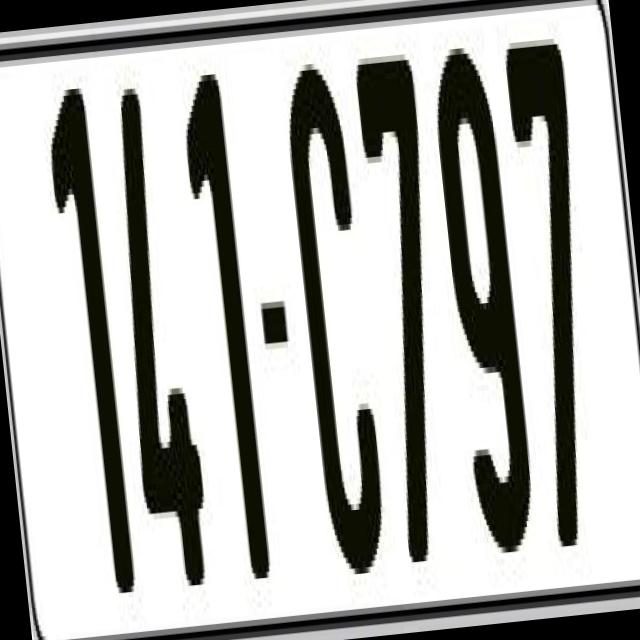1: (177, 55, 278, 563), (37, 70, 133, 590)
4: (98, 73, 218, 601)
7: (353, 46, 472, 562), (498, 27, 610, 536)
9: (422, 28, 540, 562)
C: (279, 66, 395, 576)
